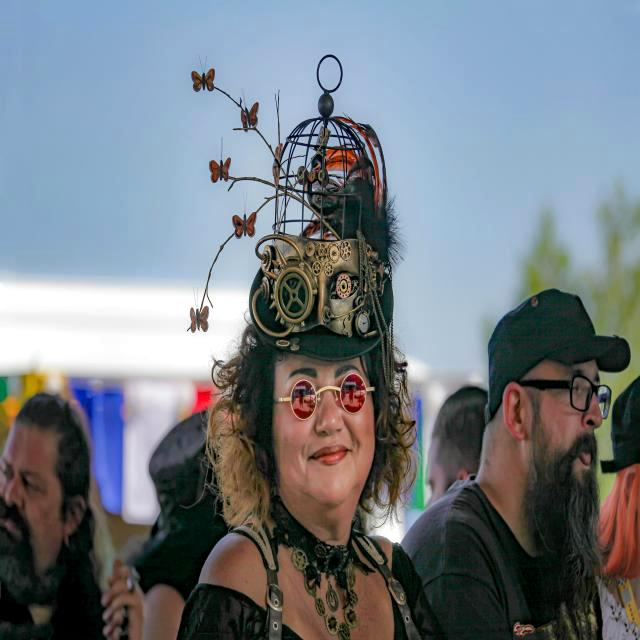no_hard_hat: (209, 54, 397, 351), (488, 288, 631, 420), (149, 410, 208, 508), (601, 376, 640, 473)
no_head_wear: (15, 393, 90, 508), (428, 386, 487, 477)
person: (178, 325, 437, 640), (402, 289, 630, 640), (0, 393, 105, 640), (134, 410, 227, 638), (427, 386, 487, 506), (600, 464, 640, 640)
